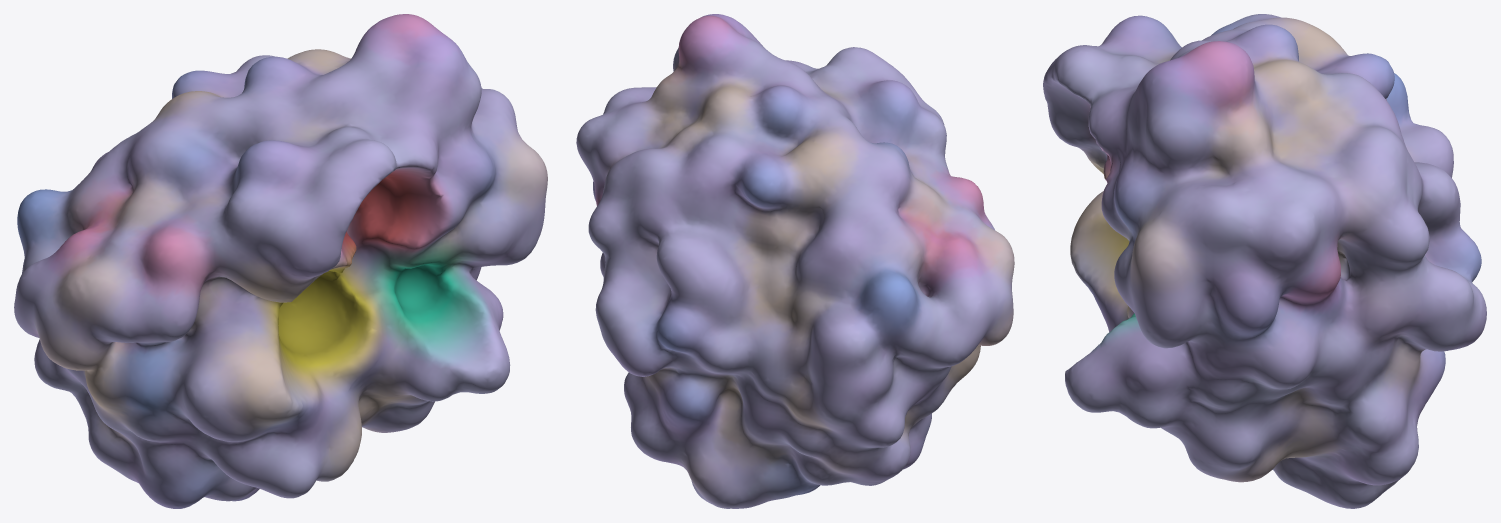
Rendered from tripsina.glb.
3 views of the same model, side by side, from view 1: azimuth 30°, elevation 25°; view 2: azimuth 150°, elevation 25°; view 3: azimuth 270°, elevation 25° (orthographic). The views are drawn at different scales.
Visible parts, largest first — view 1: geometry_0; view 2: geometry_0; view 3: geometry_0.
Boxes of the visible parts, <box> form: geometry_0: <box>14,14,547,508</box>; geometry_0: <box>576,14,1014,508</box>; geometry_0: <box>1043,14,1486,508</box>.
Bounding box in the file's own units: 0.4545 × 0.4497 × 0.3579.
